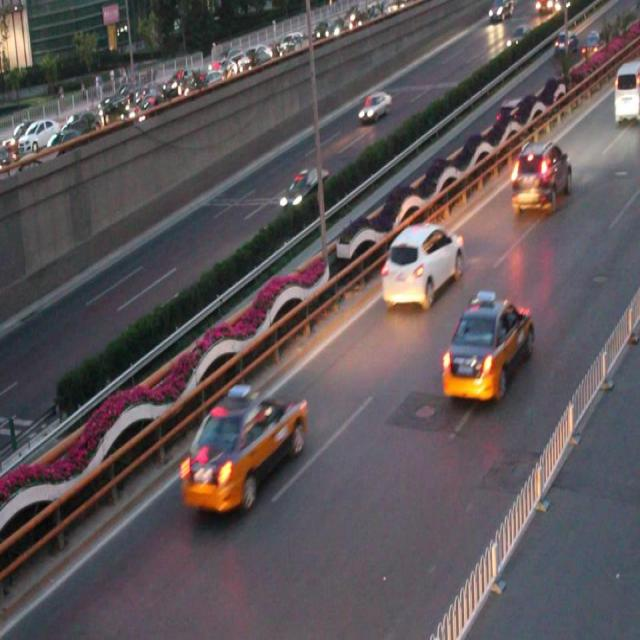car: (181, 386, 309, 512), (441, 294, 532, 402), (380, 226, 461, 310), (511, 144, 574, 214), (279, 164, 328, 214), (356, 88, 393, 123)
